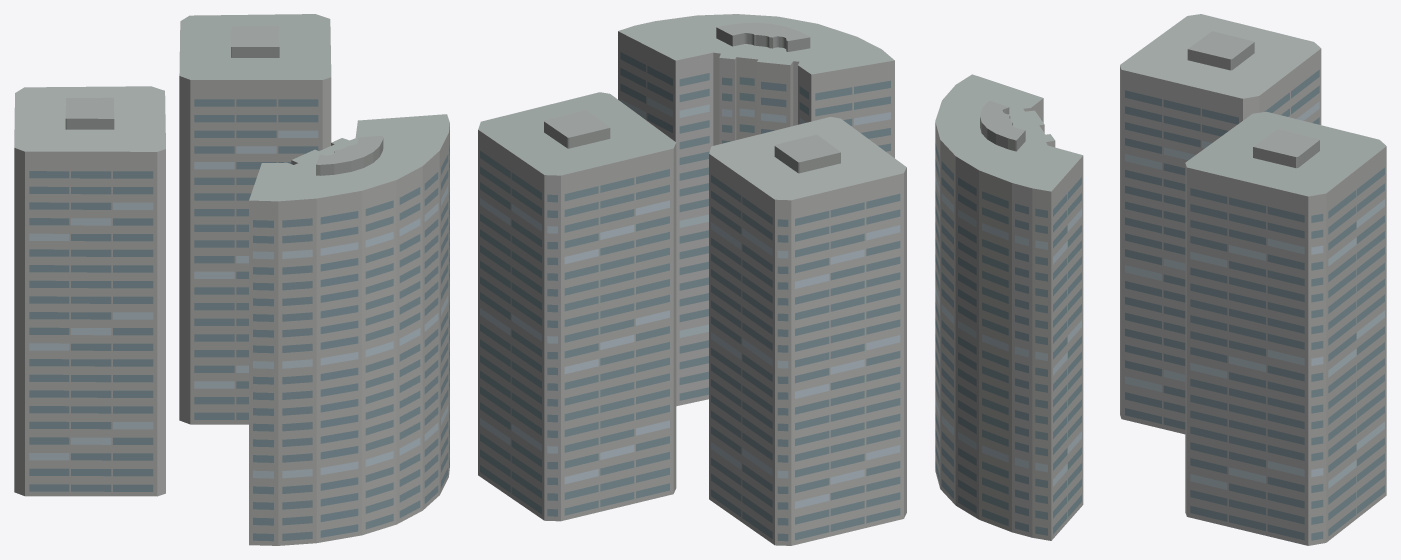
Rendered from apt-a10027364.glb.
3 views of the same model, side by side, from view 1: azimuth 30°, elevation 25°; view 2: azimuth 150°, elevation 25°; view 3: azimuth 270°, elevation 25° (orthographic).
Parts seen in each view (by area): view 1: apt-a10027364; view 2: apt-a10027364; view 3: apt-a10027364.
Part boxes in pixels (bbox=[...]): apt-a10027364: bbox=[14, 14, 449, 545]; apt-a10027364: bbox=[478, 14, 906, 545]; apt-a10027364: bbox=[935, 14, 1386, 545].
Size of the model in its own units: 84.7 by 78 by 88.53.
